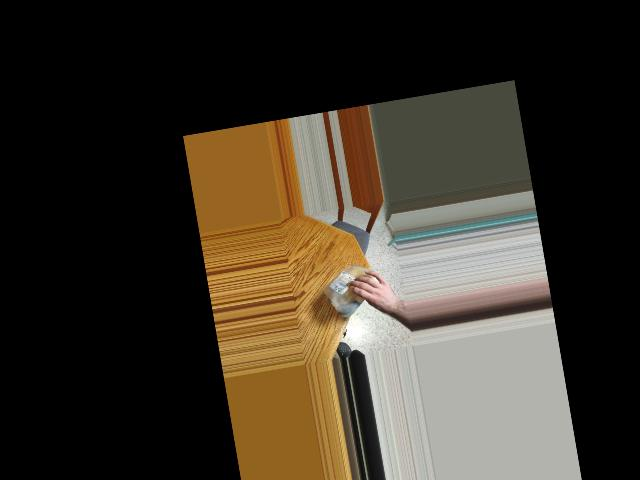cheese: (318, 258, 388, 319)
